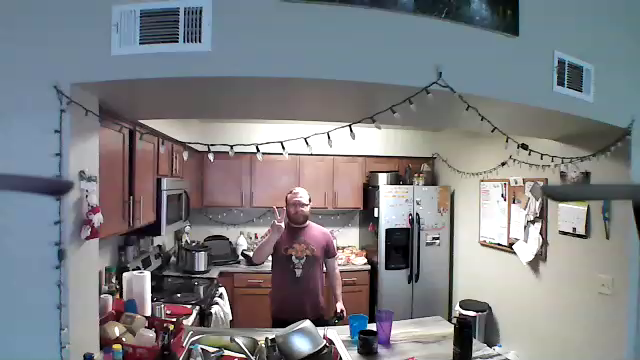peace: (262, 201, 290, 240)
